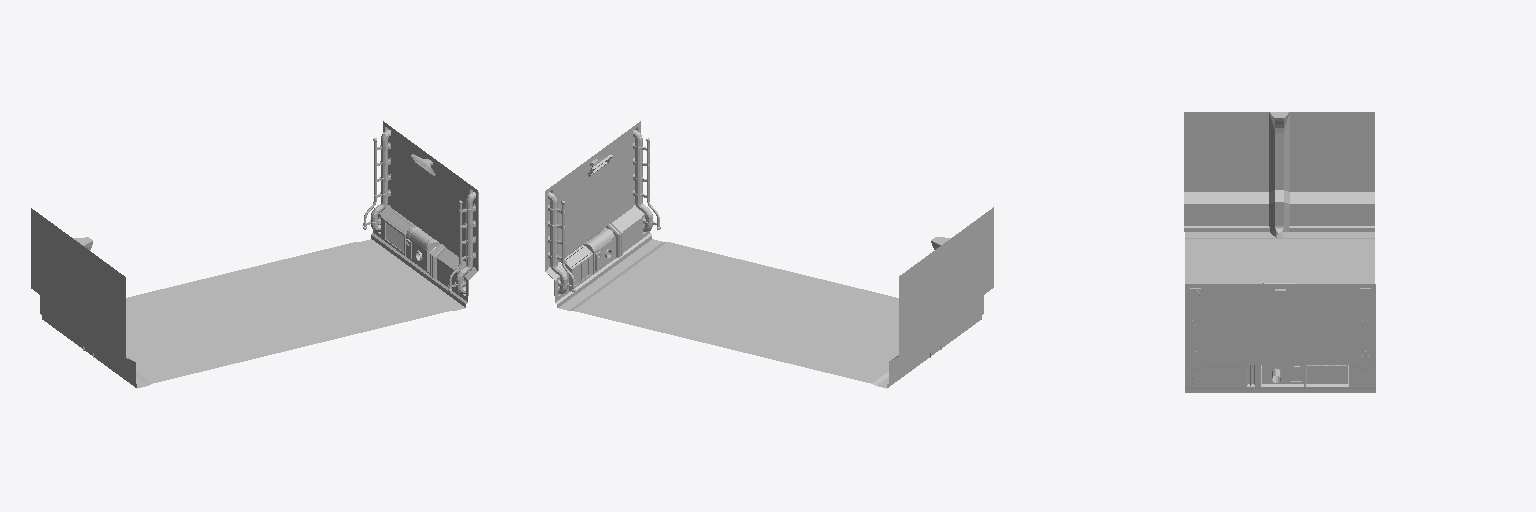
The picture shows the model from 3 angles: view 1: azimuth 30°, elevation 25°; view 2: azimuth 150°, elevation 25°; view 3: azimuth 270°, elevation 25°; orthographic projection.
Visible parts, largest first — view 1: Segment_4 Components Full_Templates Templates; view 2: Segment_4 Components Full_Templates Templates; view 3: Segment_4 Components Full_Templates Templates.
Boxes of the visible parts, box(x1,y1,x2,y2) form: Segment_4 Components Full_Templates Templates: box(31, 121, 478, 388); Segment_4 Components Full_Templates Templates: box(545, 121, 993, 388); Segment_4 Components Full_Templates Templates: box(1184, 112, 1375, 392).
Bounding box in the file's own units: 38.94 × 12 × 18.1.